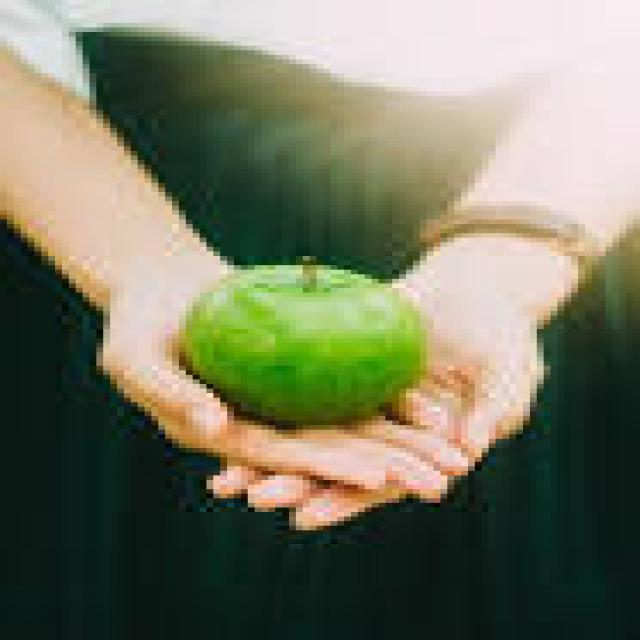apple: (186, 266, 426, 425)
